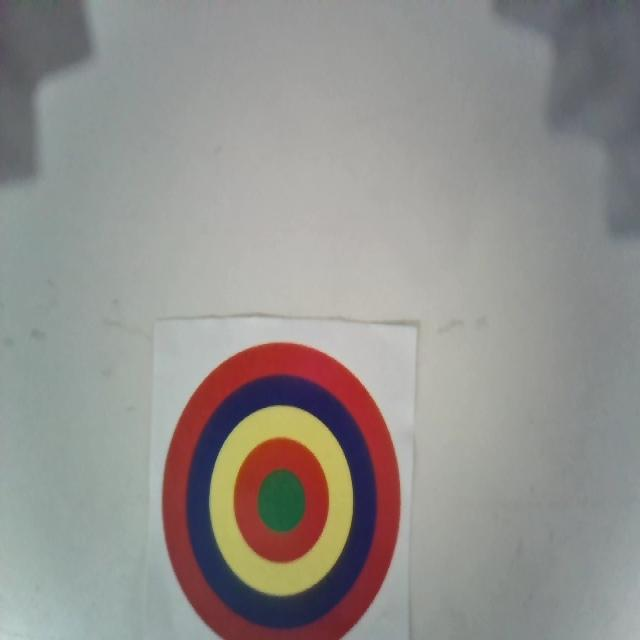cogn: (162, 338, 404, 637)
